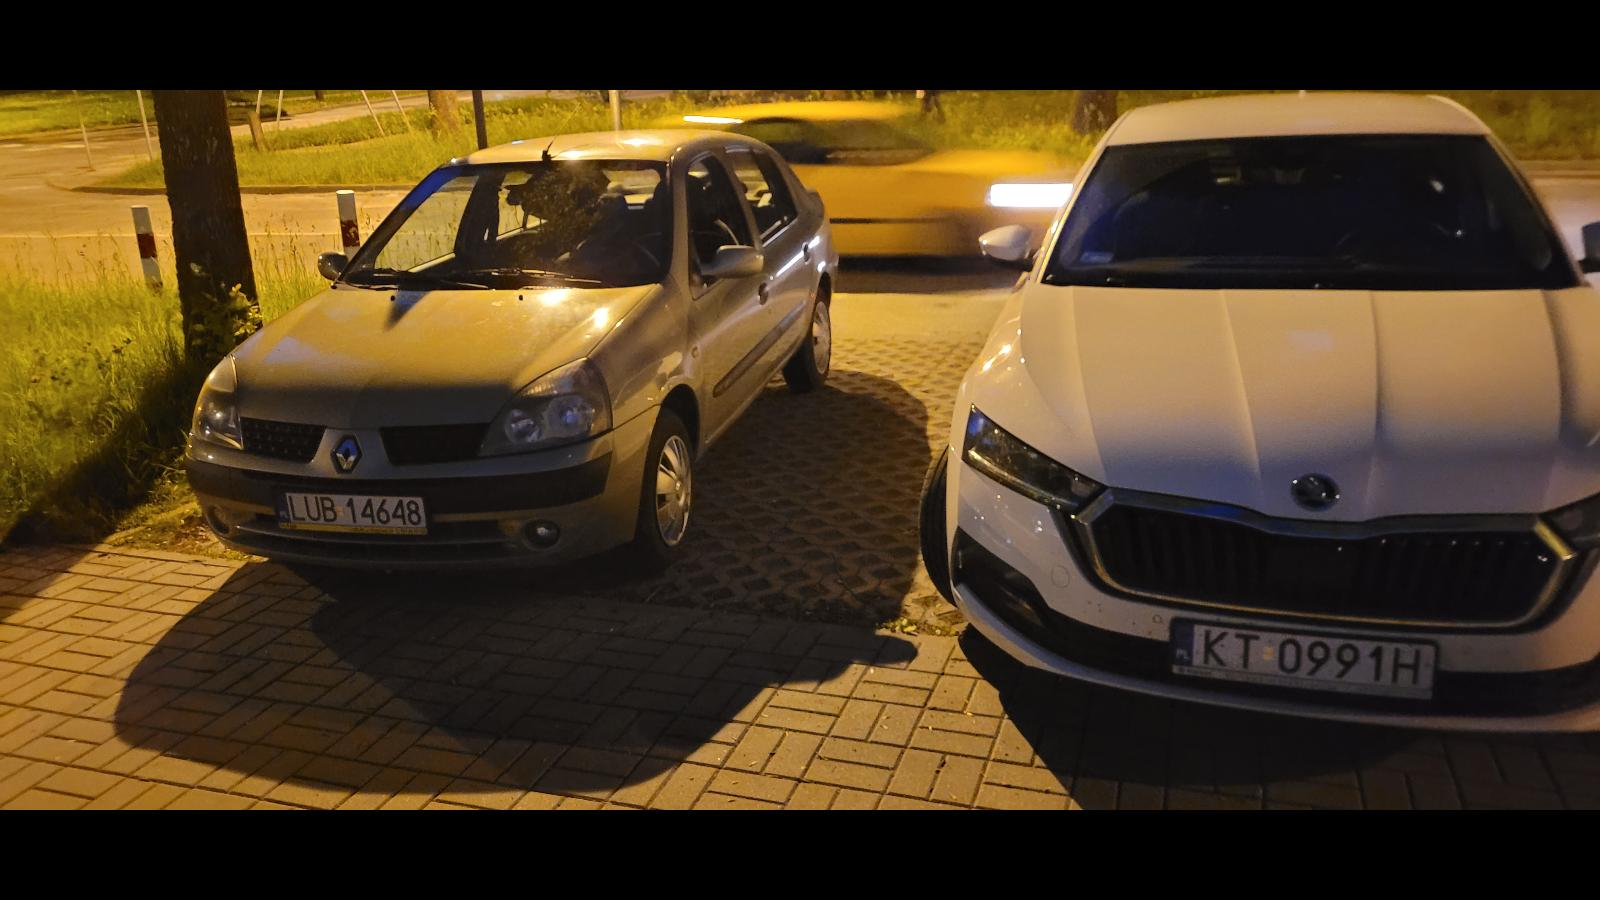plates: (1170, 617, 1438, 699), (272, 486, 428, 534)
